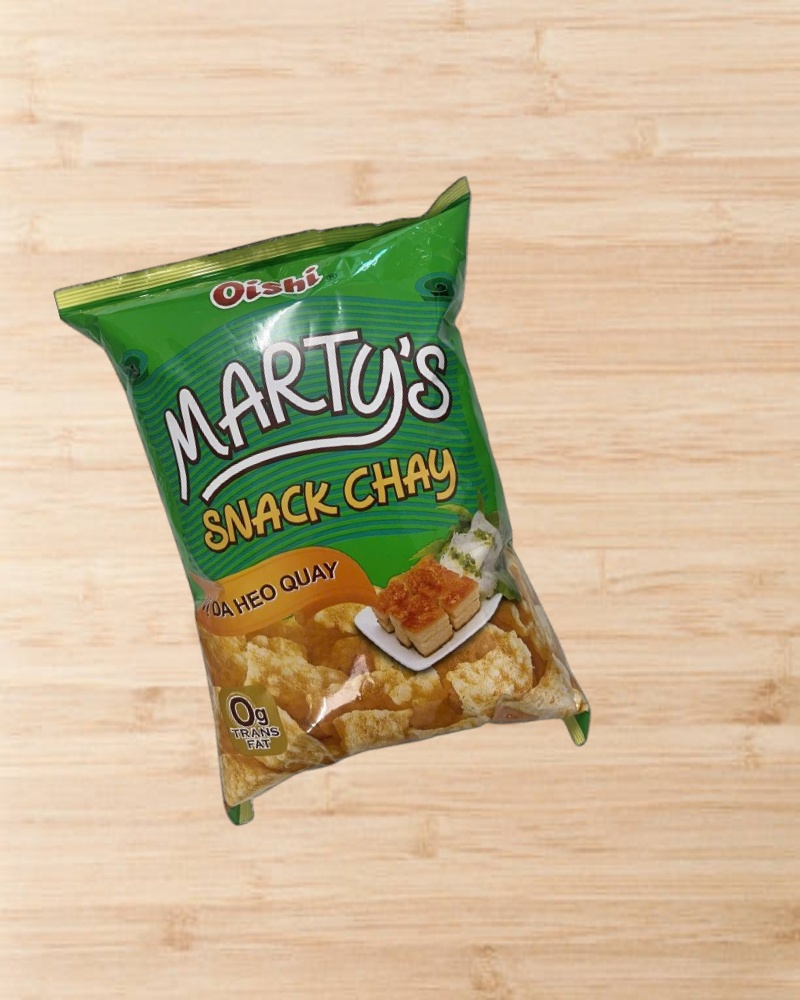Snack chay: (53, 176, 617, 847)
